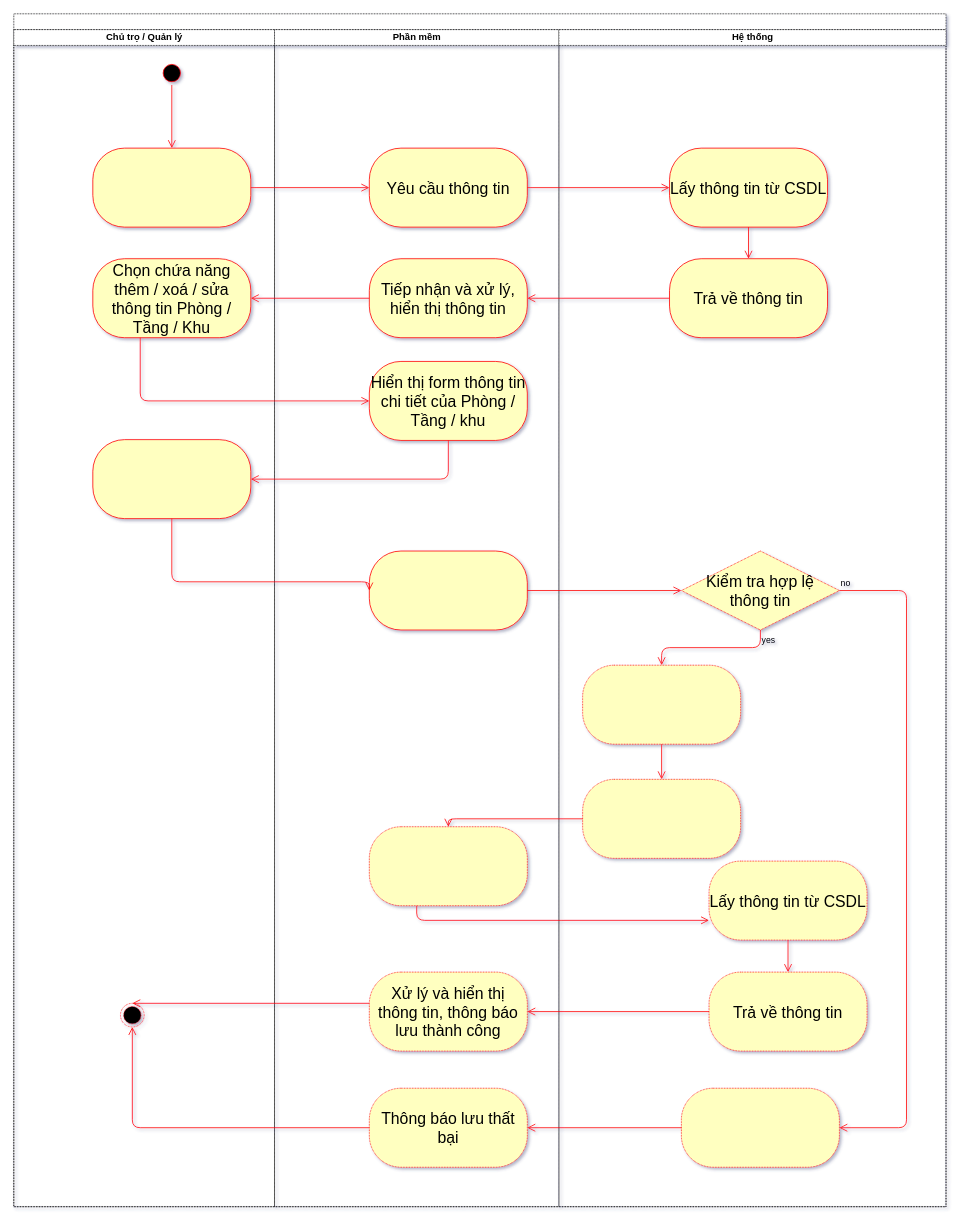
Image size: 965x1225. Some labels were removed from this diagram. The shapes that lost their labels are listed below. From the top down, each one's centre as x and y in pixels, then its label:
At point 171,187: "Chọn chức năng Quản lý thông tin Phòng / Tầng / Khu".
At point 171,479: "Nhập thông tin và nhấn Lưu".
At point 448,590: "Yêu cầu lưu thông tin".
At point 661,704: "Lưu thông tin vào CSDL".
At point 661,818: "Thông báo lưu thành công".
At point 448,866: "Yêu cầu xuất lại thông tin (vì có thay đổi)".
At point 760,1127: "Thông báo thông tin không hợp lệ".
